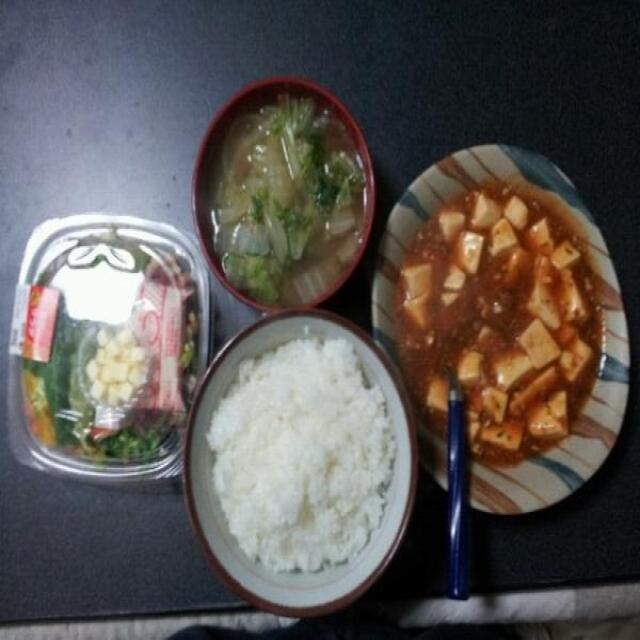Rice: (211, 338, 396, 573)
